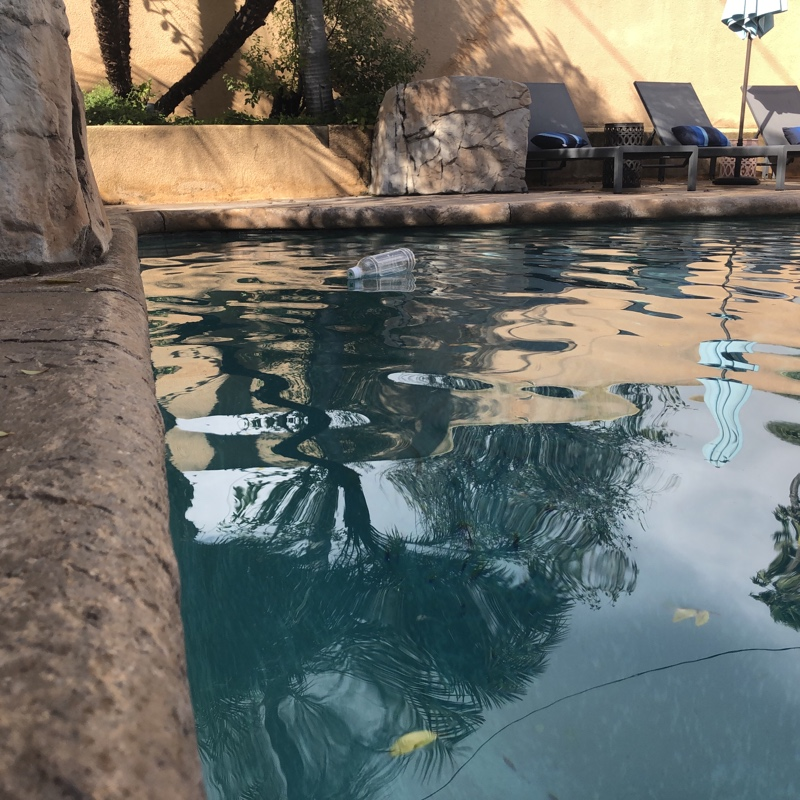Plastic Bottle: (344, 247, 419, 283)
